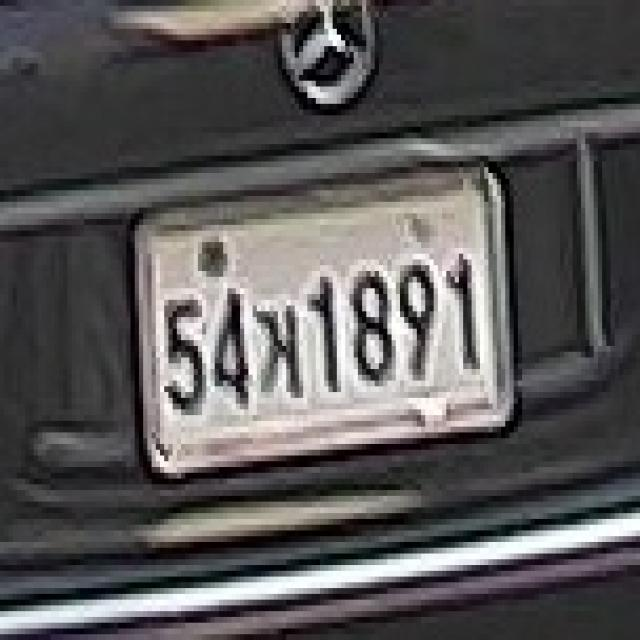1: (438, 236, 488, 392), (307, 265, 341, 404)
4: (206, 282, 257, 421)
5: (160, 288, 206, 421)
8: (349, 248, 396, 398)
9: (396, 225, 438, 409)
geo: (244, 294, 312, 409)
license_plate: (131, 150, 522, 496)
